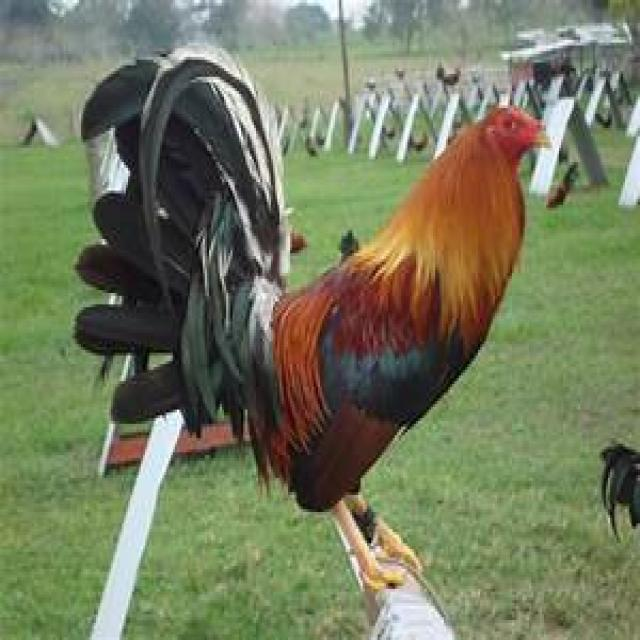hen: (75, 48, 548, 640)
